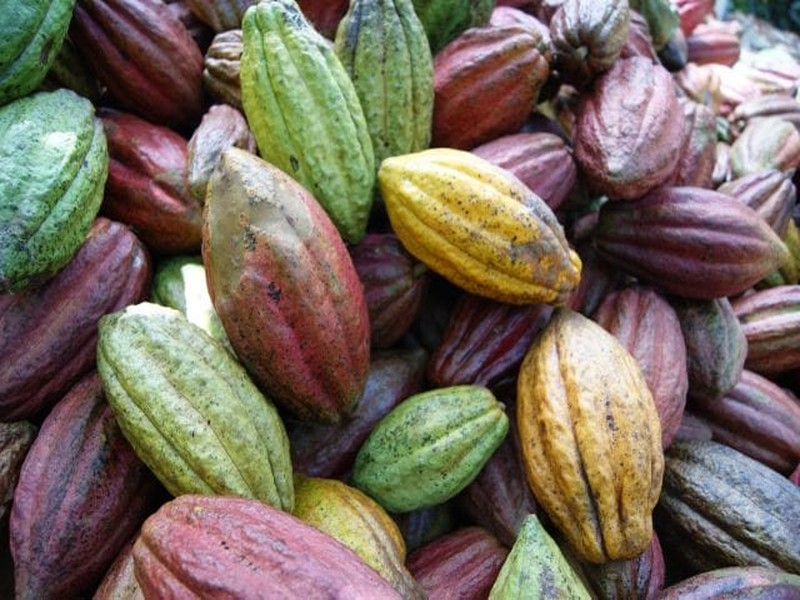Cacaopod: (202, 144, 372, 426), (516, 306, 665, 564), (238, 1, 377, 245), (377, 148, 584, 309), (589, 187, 791, 300)
